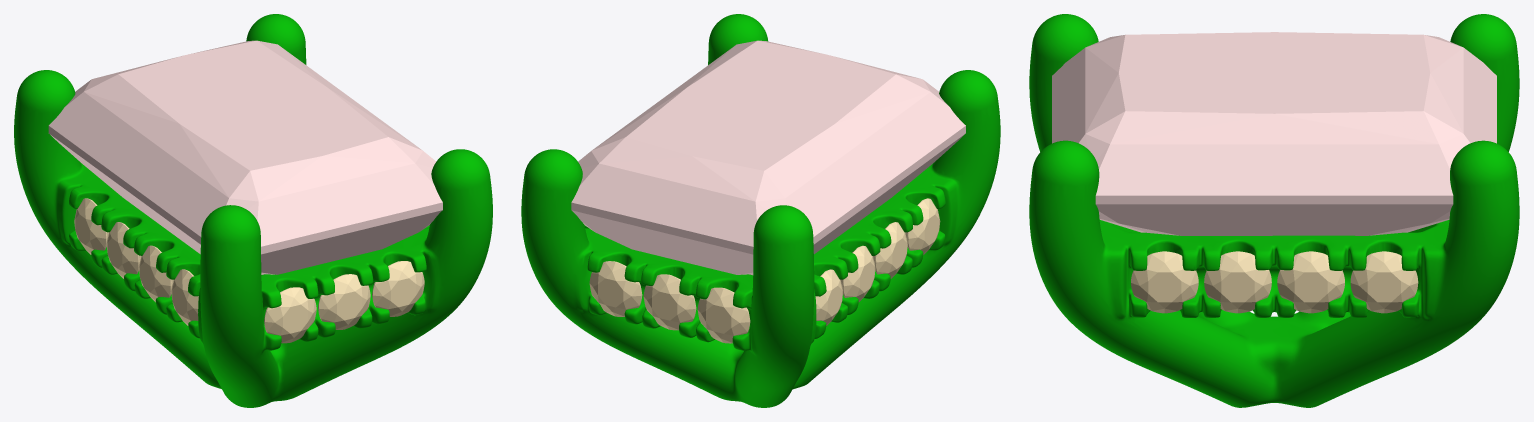
The picture shows the model from 3 angles, left to right: view 1: azimuth 30°, elevation 25°; view 2: azimuth 150°, elevation 25°; view 3: azimuth 270°, elevation 25°; orthographic projection. The views are drawn at different scales.
Visible parts, largest first — view 1: Diamond_Radiant, Metal01, Diamond_Round.001, Diamond_Round, Diamond_Round.002, Diamond_Round.009, Diamond_Round.010, Diamond_Round.007, Diamond_Round.008; view 2: Diamond_Radiant, Metal01, Diamond_Round.013, Diamond_Round.011, Diamond_Round.012, Diamond_Round.007, Diamond_Round.008, Diamond_Round.009, Diamond_Round.010; view 3: Diamond_Radiant, Metal01, Diamond_Round.006, Diamond_Round.004, Diamond_Round.003, Diamond_Round.005.
Boxes of the visible parts, left/top/right/bottom form: Diamond_Radiant: left=48, top=40, right=442, bottom=274; Metal01: left=14, top=14, right=492, bottom=407; Diamond_Round.001: left=318, top=274, right=370, bottom=329; Diamond_Round: left=264, top=287, right=316, bottom=343; Diamond_Round.002: left=372, top=261, right=424, bottom=316; Diamond_Round.009: left=106, top=222, right=141, bottom=278; Diamond_Round.010: left=74, top=198, right=108, bottom=254; Diamond_Round.007: left=139, top=245, right=173, bottom=302; Diamond_Round.008: left=171, top=269, right=198, bottom=325; Diamond_Radiant: left=571, top=40, right=965, bottom=275; Metal01: left=521, top=14, right=1000, bottom=407; Diamond_Round.013: left=643, top=274, right=696, bottom=330; Diamond_Round.011: left=697, top=287, right=750, bottom=343; Diamond_Round.012: left=589, top=261, right=642, bottom=316; Diamond_Round.007: left=873, top=222, right=907, bottom=278; Diamond_Round.008: left=905, top=198, right=940, bottom=254; Diamond_Round.009: left=840, top=245, right=875, bottom=302; Diamond_Round.010: left=815, top=269, right=843, bottom=325; Diamond_Radiant: left=1052, top=32, right=1496, bottom=235; Metal01: left=1029, top=14, right=1519, bottom=407; Diamond_Round.006: left=1350, top=251, right=1418, bottom=313; Diamond_Round.004: left=1131, top=251, right=1198, bottom=313; Diamond_Round.003: left=1204, top=251, right=1271, bottom=313; Diamond_Round.005: left=1277, top=251, right=1344, bottom=313.
Size of the model in its own units: 5.76 by 5.49 by 7.6.
